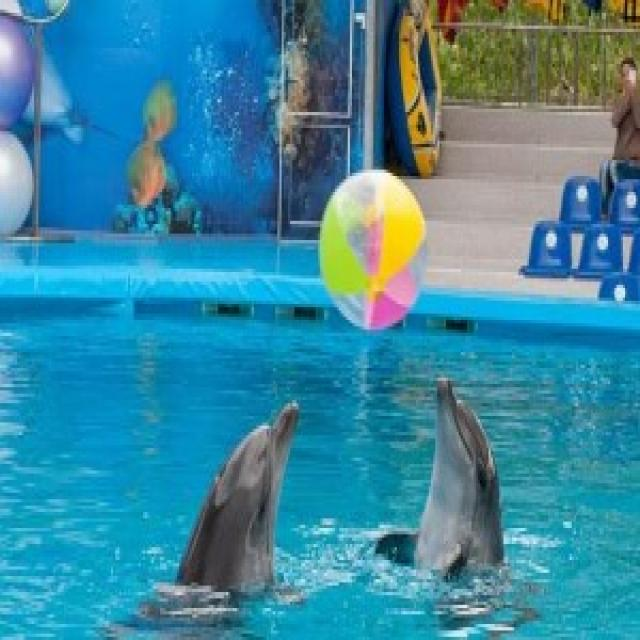Dolphin: (374, 370, 518, 622), (175, 396, 317, 630)
